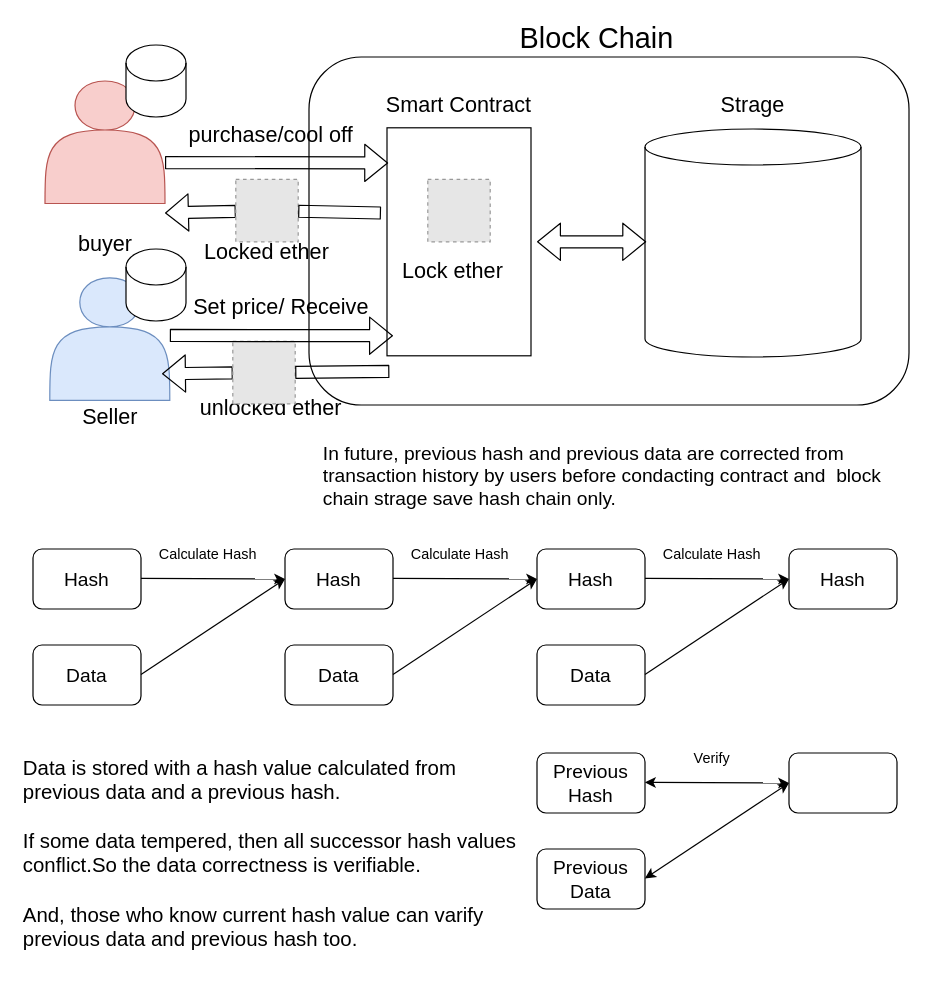
Some shapes in this 930 by 997 pixel diagram are drawn without their labels. Grey dashed boxes stand in for pictures. Each missing label, with the centre of its shape:
Current Hash: point 842,782
・hash chain: point 752,242
